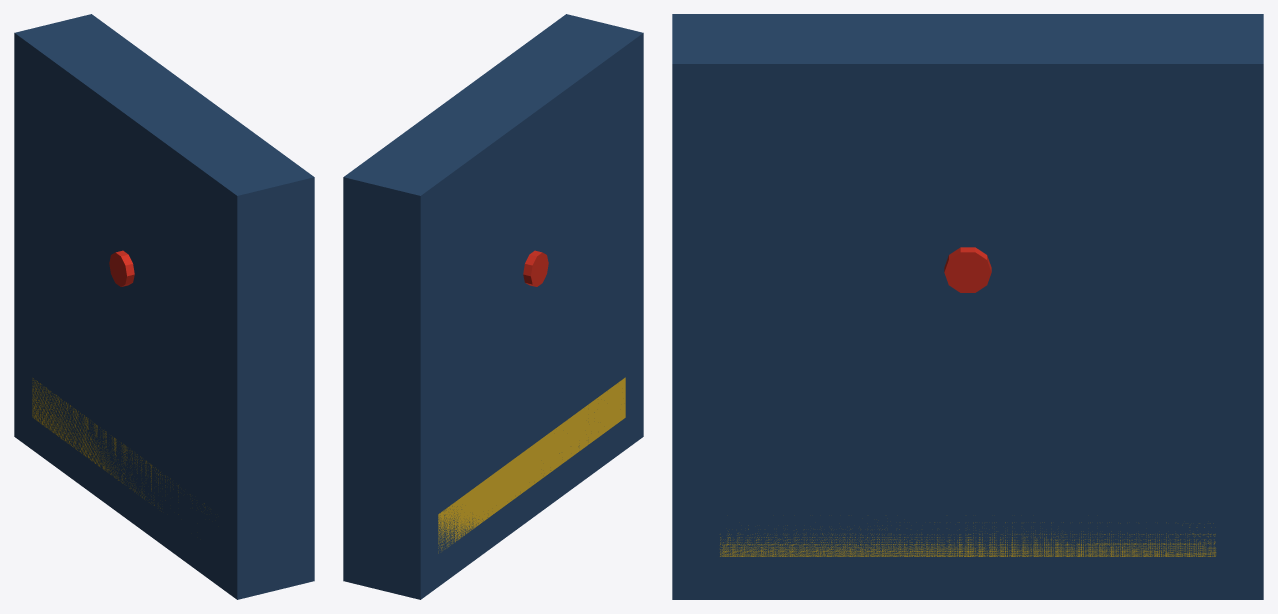
Rendered from security_door_bottom_right.obj.
3 views of the same model, side by side, from view 1: azimuth 30°, elevation 25°; view 2: azimuth 150°, elevation 25°; view 3: azimuth 270°, elevation 25° (orthographic). The views are drawn at different scales.
Visible parts, largest first — view 1: security_door_bottom_right; view 2: security_door_bottom_right; view 3: security_door_bottom_right.
Part boxes in pixels (x1,y1,x2,y2): security_door_bottom_right: (14,14,314,599); security_door_bottom_right: (343,14,643,599); security_door_bottom_right: (672,14,1263,599).
Bounding box in the file's own units: 0.24 × 1 × 1.
